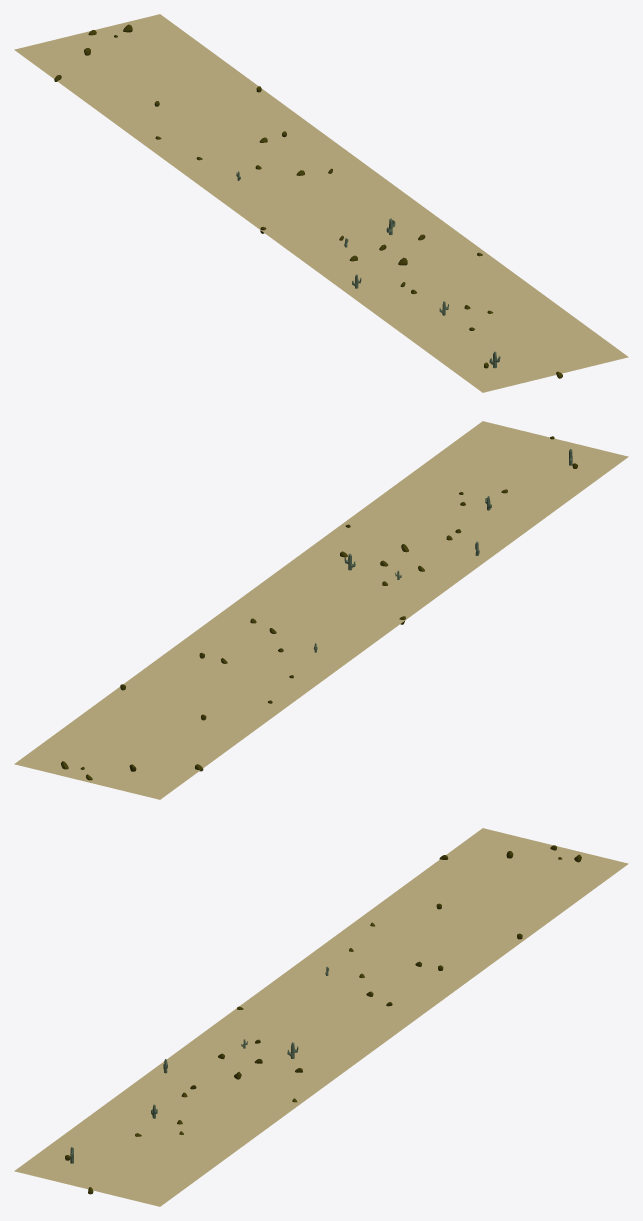
The model's file is desert chunk left.fbx.
The picture shows the model from 3 angles, top to bottom: view 1: azimuth 30°, elevation 25°; view 2: azimuth 150°, elevation 25°; view 3: azimuth 330°, elevation 25°; orthographic projection.
Visible parts, largest first — view 1: Plane.009; view 2: Plane.009; view 3: Plane.009.
Boxes of the visible parts, box(x1,y1,x2,y2) form: Plane.009: box(14, 14, 628, 392); Plane.009: box(14, 421, 628, 799); Plane.009: box(14, 828, 628, 1206).
Size of the model in its own units: 3628 by 509 by 20059.
